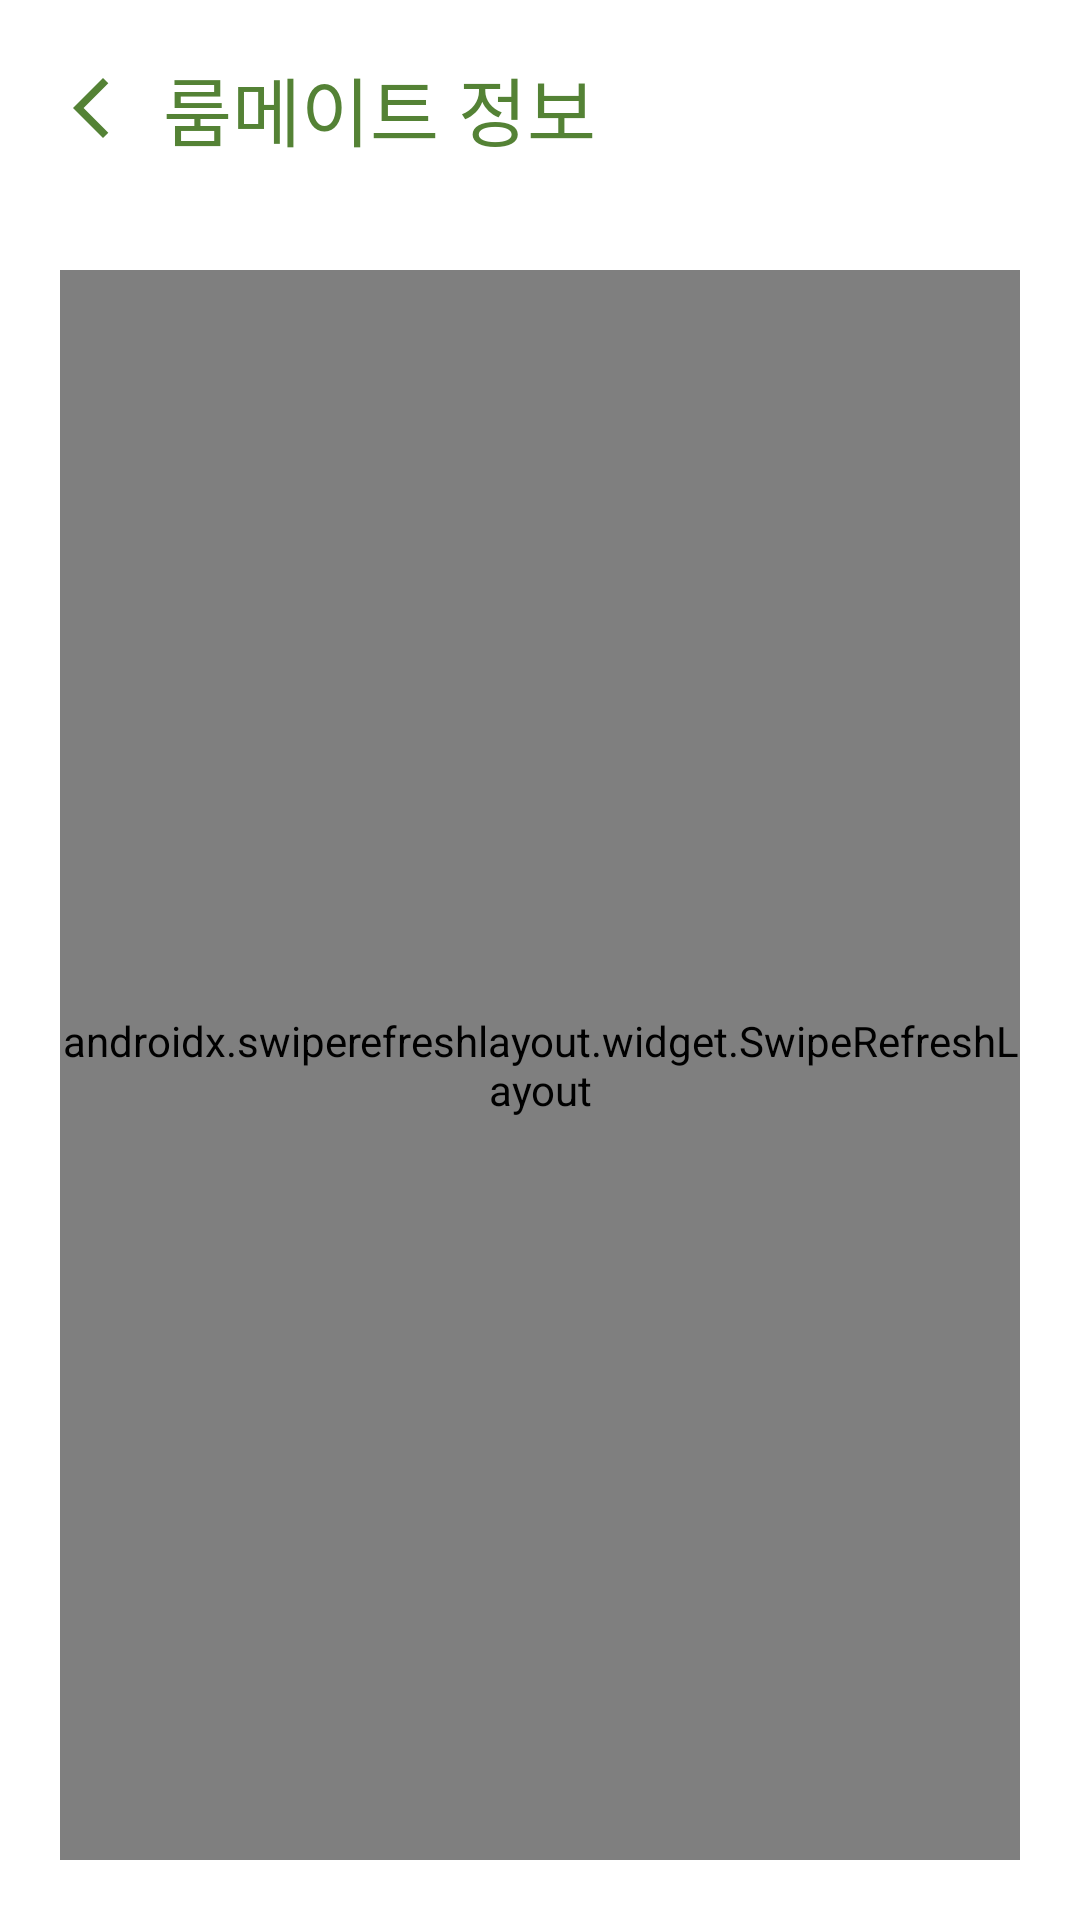

Icon click points for this 1080x1920 phone screenshot, format (x=x, y=y):
back: (x=90, y=108)
